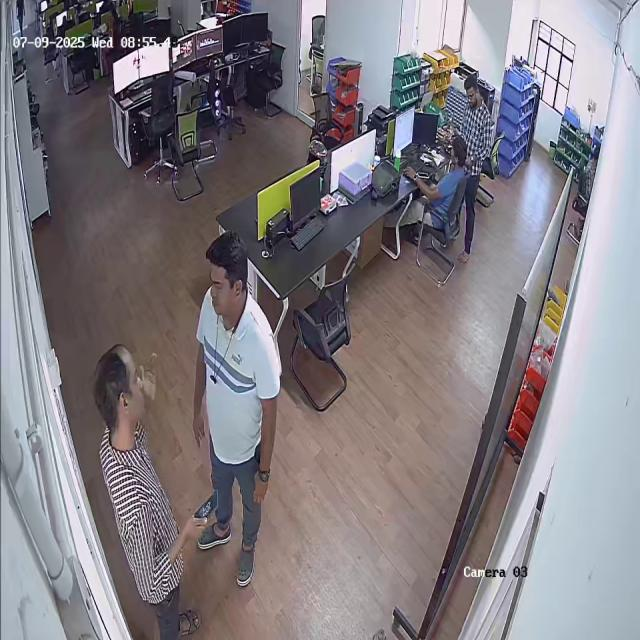person: (193, 231, 282, 585), (91, 346, 178, 640), (461, 76, 490, 266)
